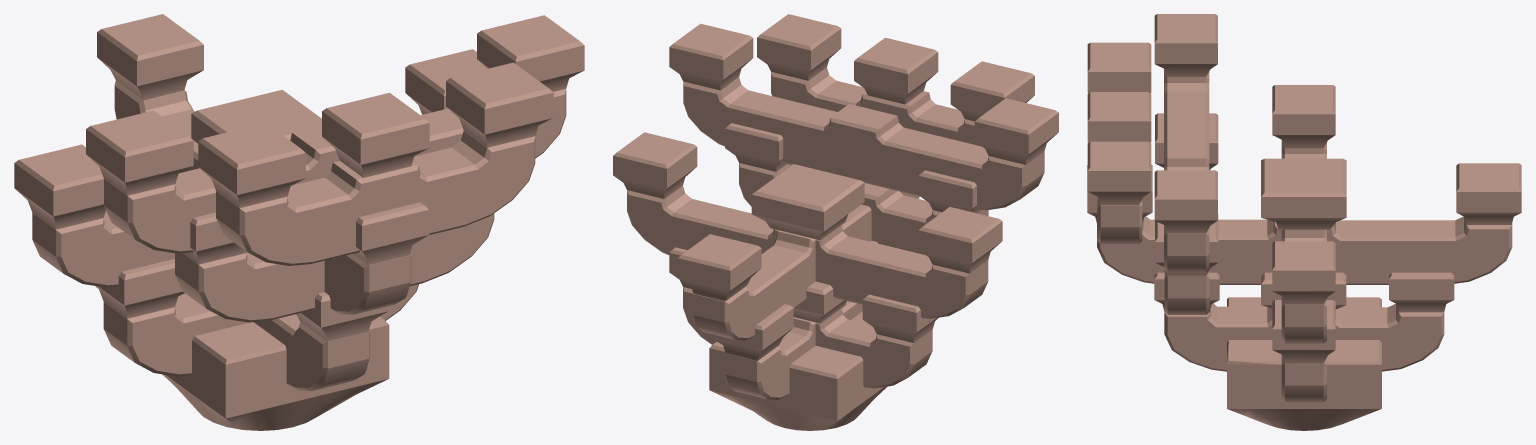
Rendered from dougong.glb.
3 renders of one model, left to right at view 1: azimuth 30°, elevation 25°; view 2: azimuth 150°, elevation 25°; view 3: azimuth 270°, elevation 25°, orthographic. The views are drawn at different scales.
Parts seen in each view (by area): view 1: dougong; view 2: dougong; view 3: dougong.
Part boxes in pixels (left/top/right/bottom): dougong: left=14, top=14, right=584, bottom=430; dougong: left=613, top=14, right=1058, bottom=430; dougong: left=1087, top=14, right=1521, bottom=430.
Size of the model in its own units: 135 by 105 by 135.
